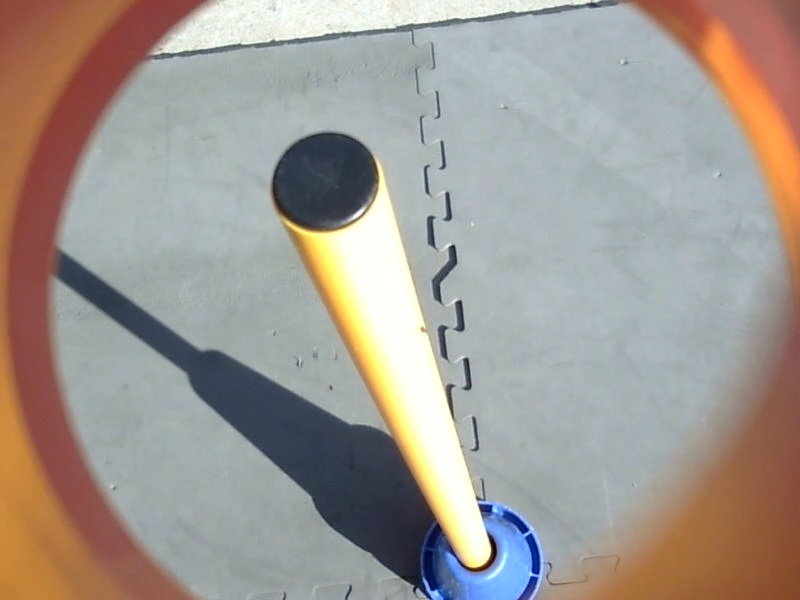tip: (266, 128, 389, 234)
